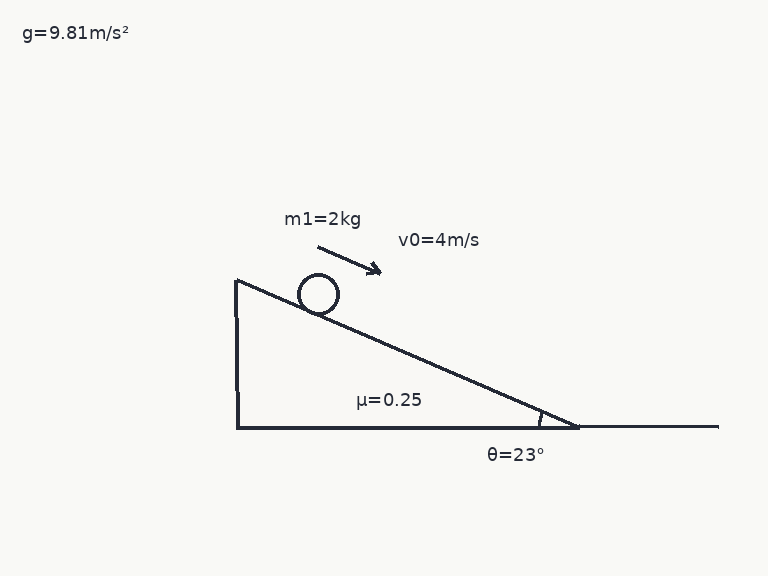ball: (295, 271, 341, 317)
ramp: (234, 279, 581, 429)
